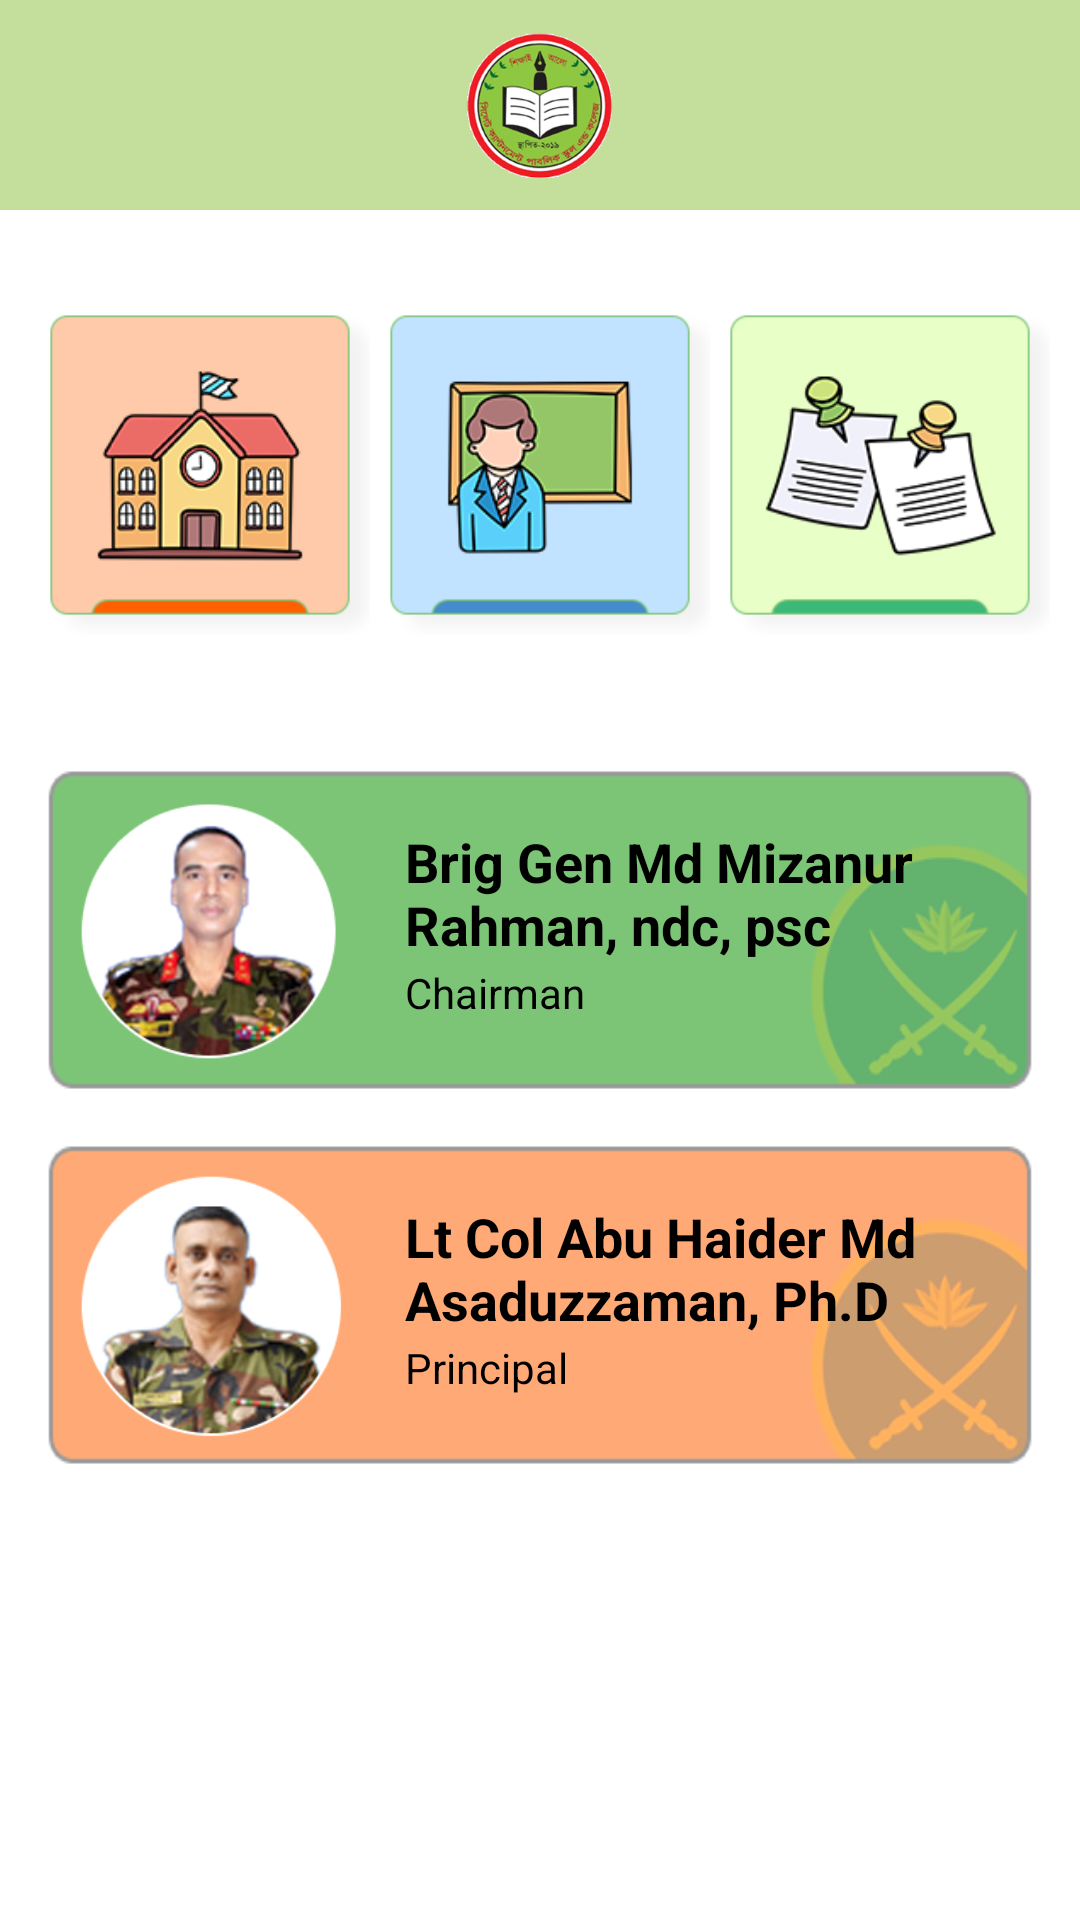

Screen size 1080 × 1920. Icon name, then its box in pixels as (x1, y1, x2, y2):
notice: (730, 315, 1030, 615)
schoolimg: (50, 315, 350, 615)
teacherimg: (390, 315, 690, 615)
